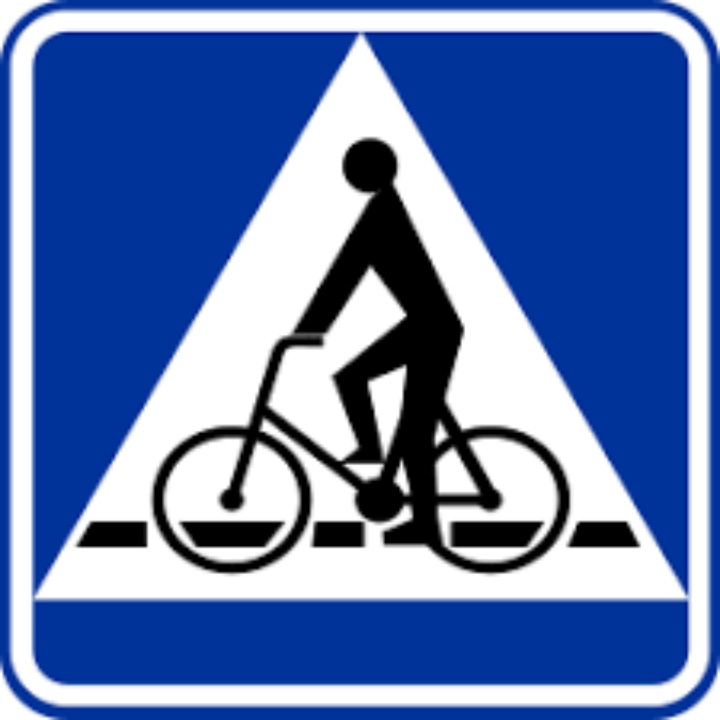bicycle: (153, 331, 573, 573)
